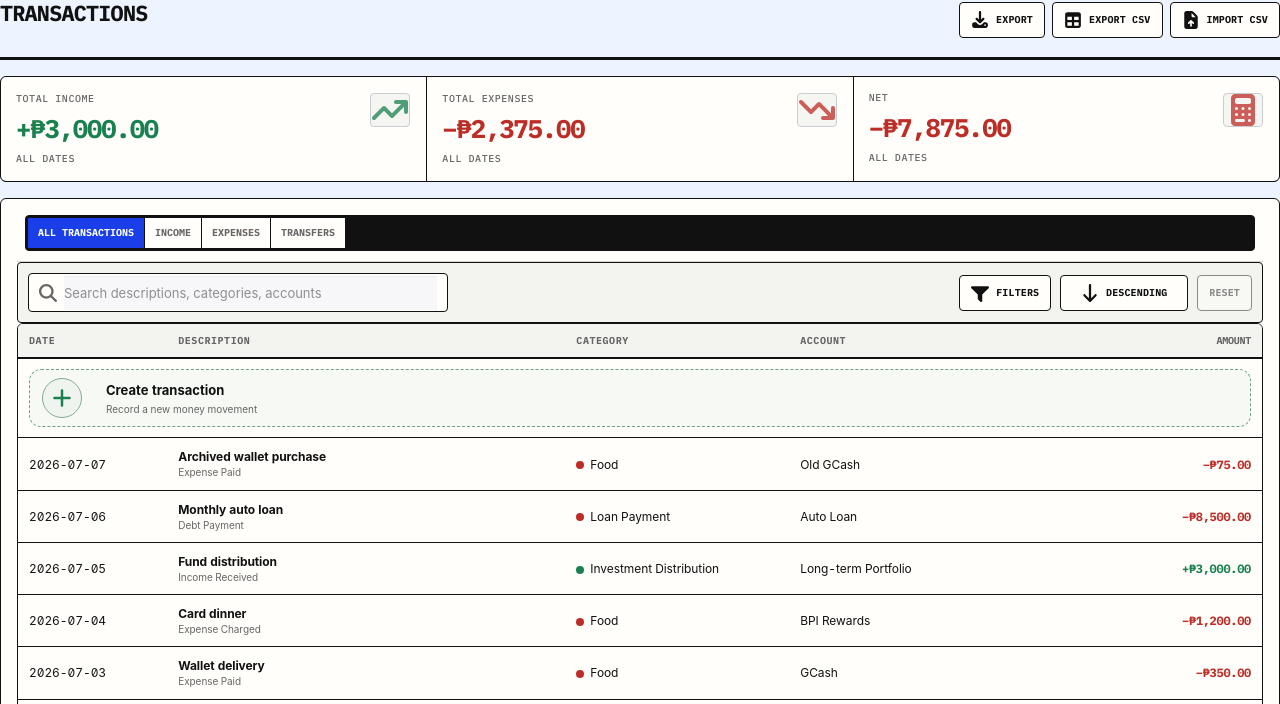
Test: contextual transaction editing › renders the investment editor for Fund distribution
Click the text "Fund distribution": point(640, 568) [18, 542, 1262, 595]
(page scrolled)
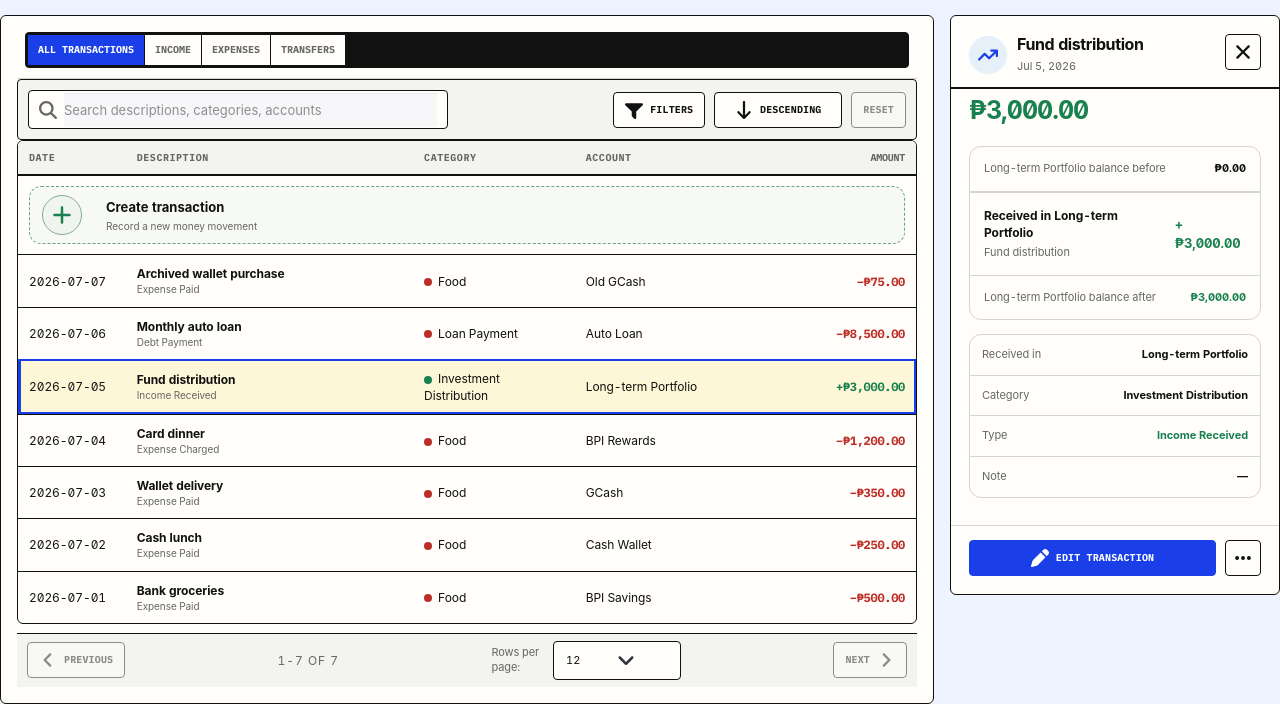
Click the button "Edit Transaction": point(1092, 558) [969, 540, 1216, 576]
(page scrolled)
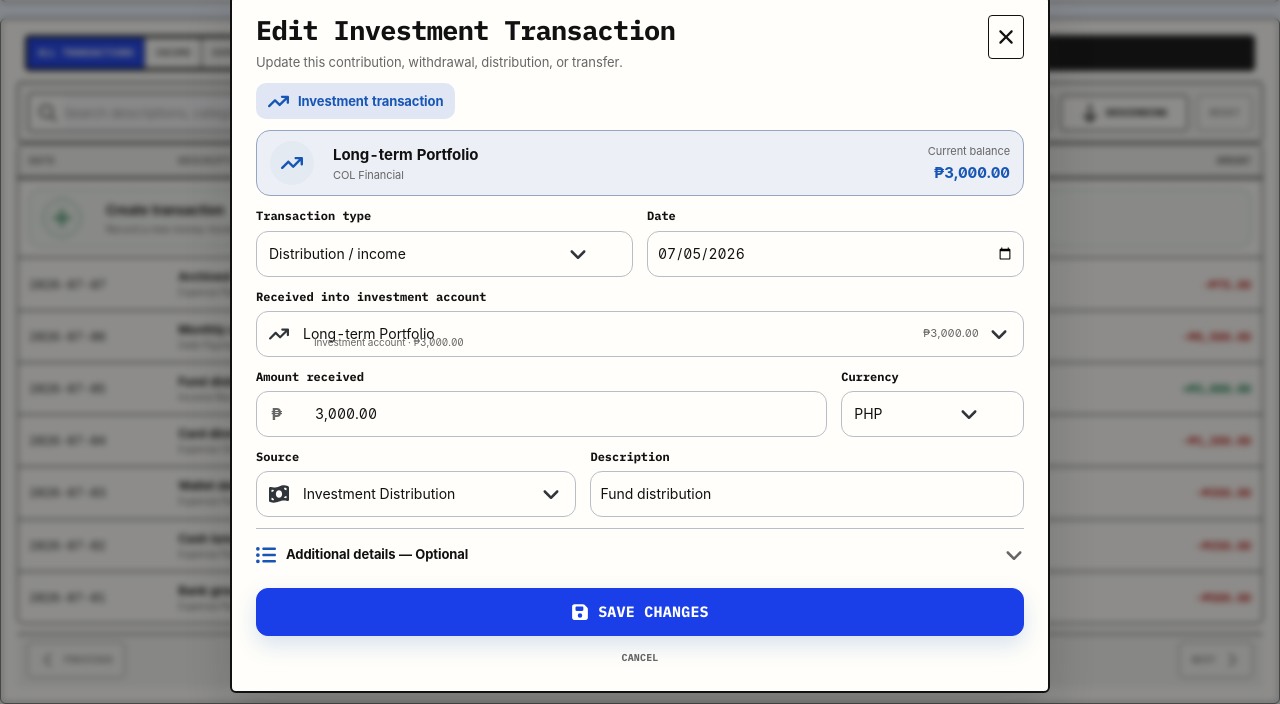
Now the text "Long-term Portfolio" next to "Current balance" is shown, box [333, 144, 478, 164]
Now the heading "Edit Investment Transaction" is shown, box [256, 15, 675, 46]
Now the text "Investment transaction" is shown, box [298, 92, 444, 111]
